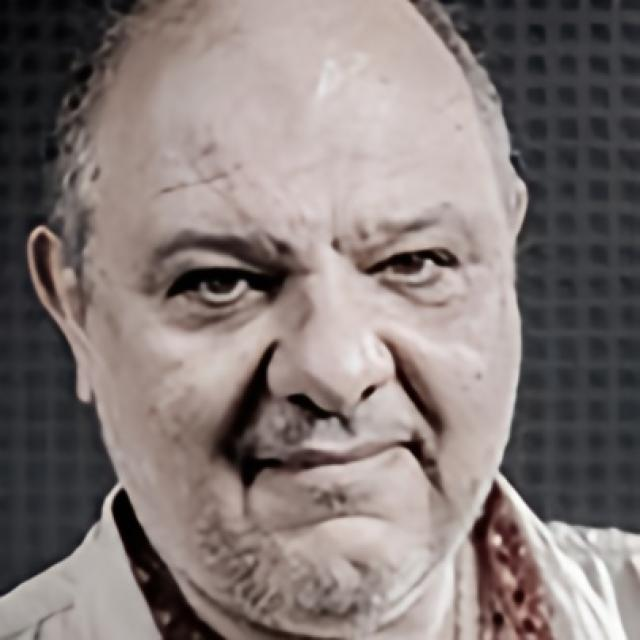disgust: (92, 33, 528, 640)
